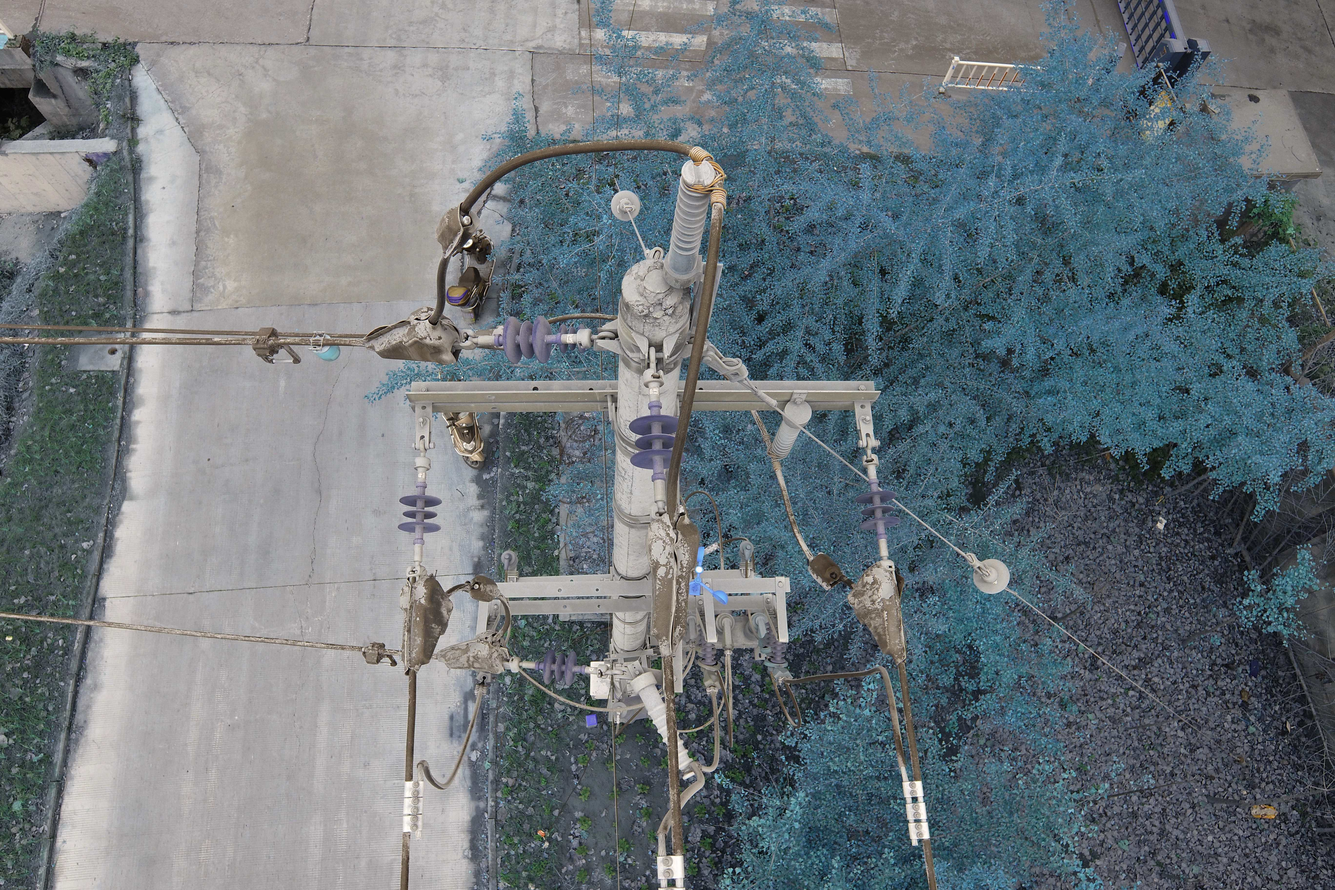severe_soiling_no_discharge_whole: (665, 159, 717, 286)
